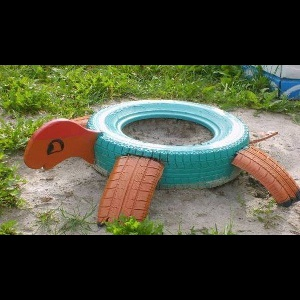tire: (88, 99, 251, 191)
